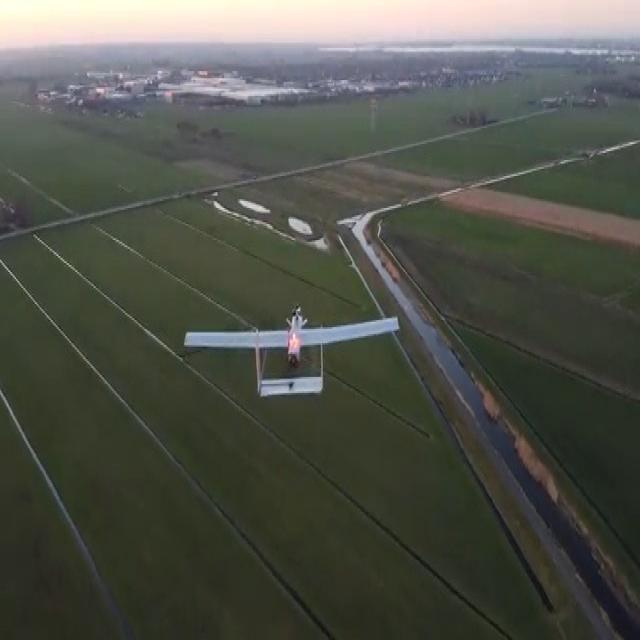iha: (183, 341, 412, 383)
